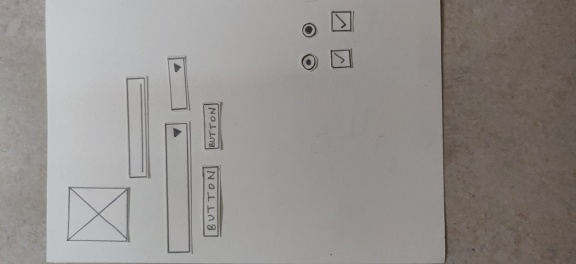button: (202, 163, 223, 239), (201, 101, 223, 151)
checkbox: (328, 48, 353, 69), (331, 9, 354, 31)
dropdown: (163, 121, 196, 254), (166, 56, 194, 113)
img: (65, 185, 129, 243)
radio: (297, 51, 319, 73), (300, 21, 319, 42)
text: (123, 77, 154, 178)
